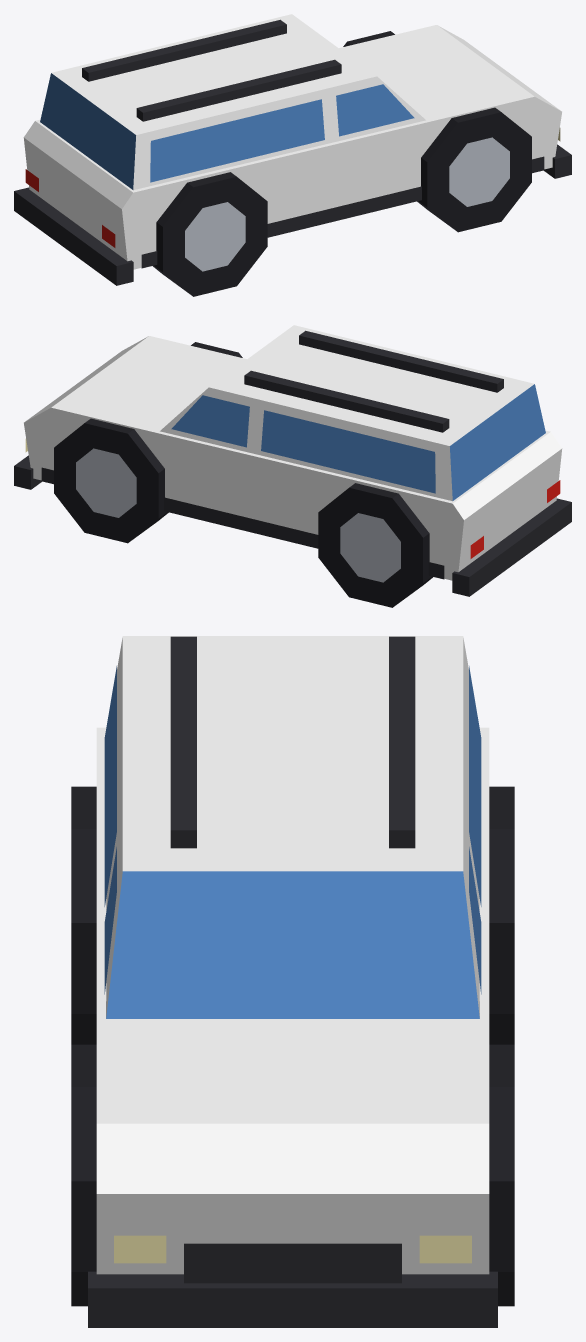
File: car_b.glb
The picture shows the model from 3 angles, top to bottom: view 1: azimuth 30°, elevation 25°; view 2: azimuth 150°, elevation 25°; view 3: azimuth 270°, elevation 25°; orthographic projection. The views are drawn at different scales.
Visible parts, largest first — view 1: Body; view 2: Body; view 3: Body.
Part boxes in pixels (x1,y1,x2,y2): Body: [14, 14, 571, 296]; Body: [14, 325, 571, 607]; Body: [71, 636, 514, 1327].
Bounding box in the file's own units: 0.482 × 0.174 × 0.2033.
